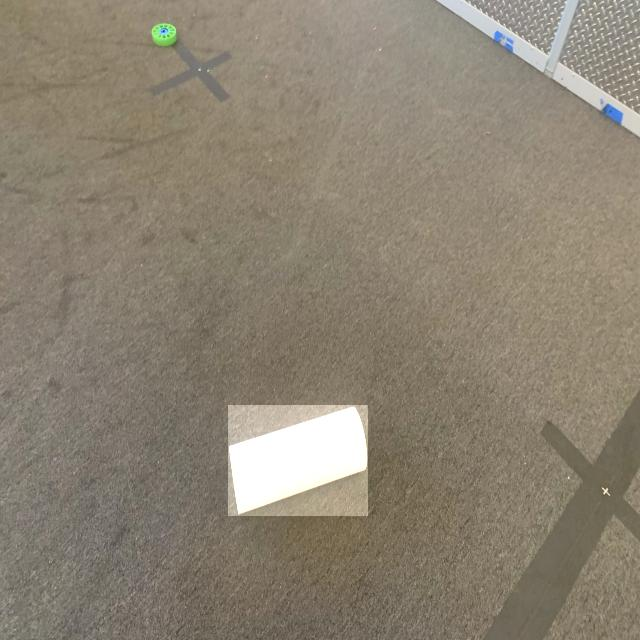Coral: (228, 405, 368, 516)
